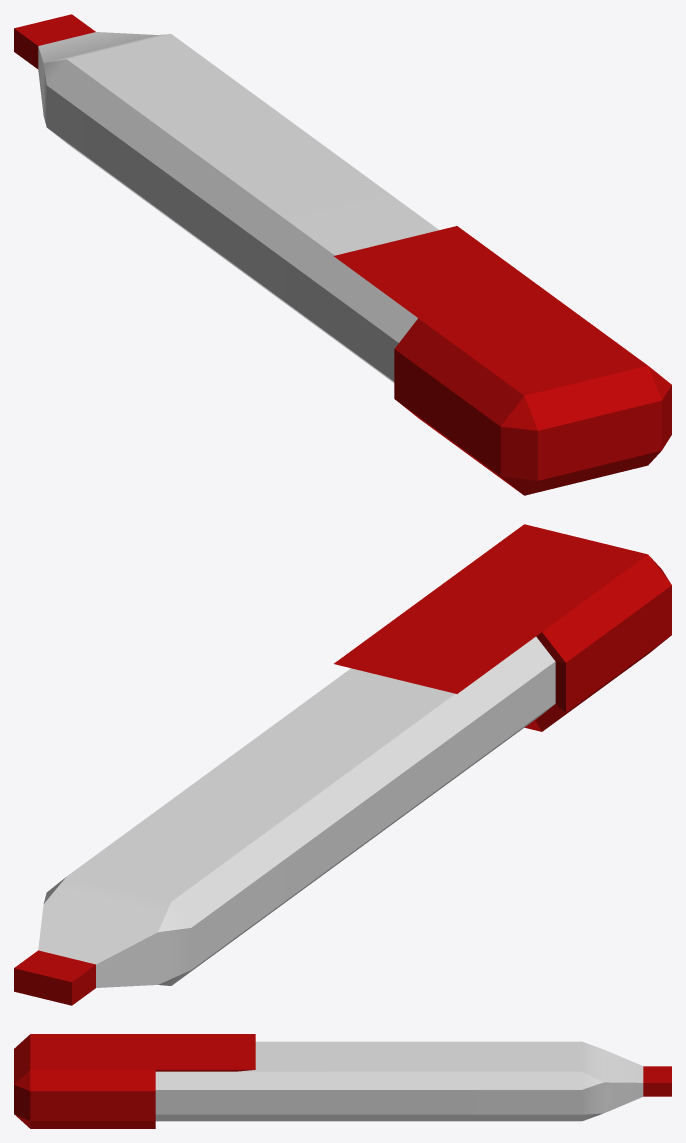
Rendered from rotulador.fbx.
The picture shows the model from 3 angles, top to bottom: view 1: azimuth 30°, elevation 25°; view 2: azimuth 150°, elevation 25°; view 3: azimuth 270°, elevation 25°; orthographic projection. The views are drawn at different scales.
Visible parts, largest first — view 1: mango, tapa, punta; view 2: mango, tapa, punta; view 3: mango, tapa, punta.
Part boxes in pixels (x1,y1,x2,y2): mango: (38,32,438,382); tapa: (334,226,671,495); punta: (14,14,95,69); mango: (38,636,555,987); tapa: (334,524,671,731); punta: (14,950,95,1005); mango: (155,1041,643,1121); tapa: (14,1034,255,1128); punta: (643,1066,671,1096).
Bounding box in the file's own units: 1.16 × 0.648 × 6.55.
